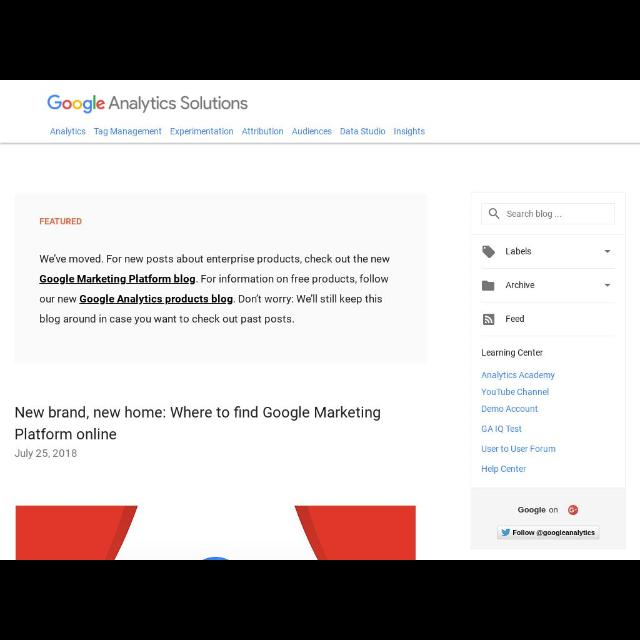icon: (480, 245, 496, 259), (481, 280, 495, 292), (482, 314, 496, 326), (488, 208, 500, 220), (604, 249, 610, 253), (604, 283, 610, 287)
image: (13, 504, 417, 558), (46, 94, 106, 115), (566, 504, 580, 516), (501, 529, 512, 537)
input: (480, 204, 616, 226)
multitab: (48, 127, 428, 139)
panel: (471, 192, 627, 550)
spinner: (471, 235, 625, 271), (472, 272, 626, 302)
text: (39, 252, 392, 326), (14, 404, 382, 442), (108, 96, 248, 114), (480, 371, 556, 382), (14, 446, 78, 459), (506, 208, 564, 220), (512, 529, 596, 537), (481, 349, 544, 359), (481, 388, 549, 397), (481, 445, 557, 453), (482, 404, 538, 414), (92, 128, 162, 136), (38, 216, 82, 228), (168, 128, 234, 136), (340, 127, 386, 137), (517, 506, 559, 516), (393, 126, 427, 138), (482, 424, 522, 434), (49, 127, 86, 137), (481, 466, 527, 474), (242, 128, 284, 136), (291, 128, 333, 136), (506, 280, 536, 290), (504, 247, 532, 257), (505, 314, 525, 324)
textbutton: (496, 526, 602, 540)
